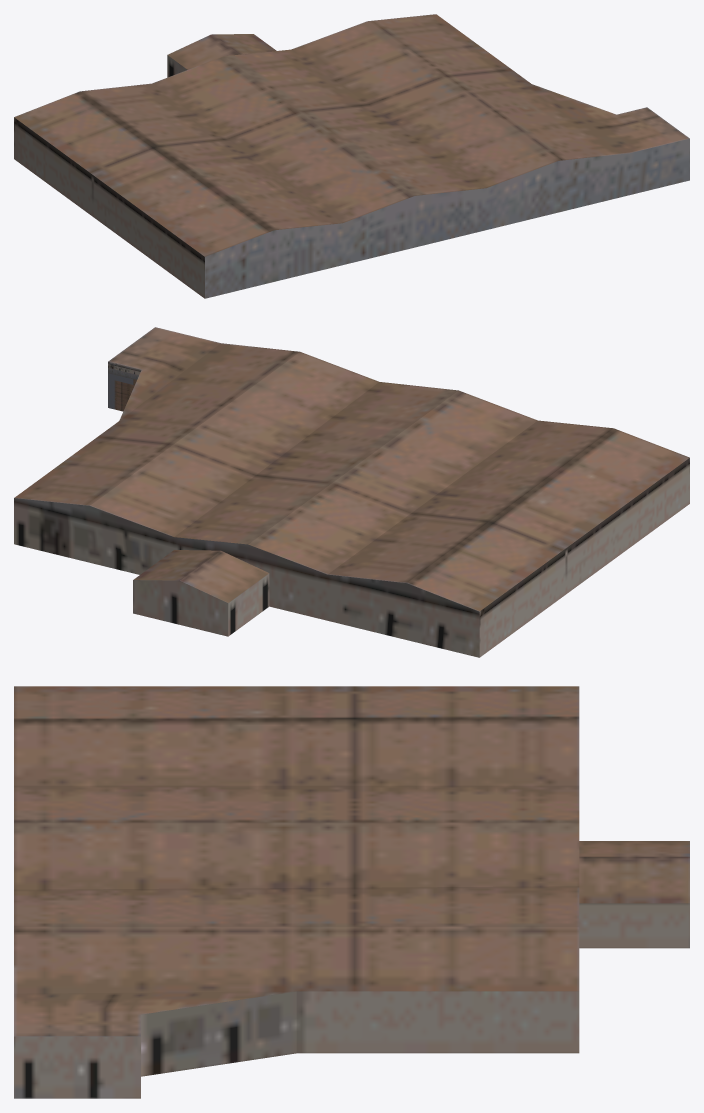
The model's file is lodwrehse09.obj.
The picture shows the model from 3 angles, top to bottom: view 1: azimuth 30°, elevation 25°; view 2: azimuth 150°, elevation 25°; view 3: azimuth 270°, elevation 25°; orthographic projection. The views are drawn at different scales.
Parts seen in each view (by area): view 1: lodwrehse09; view 2: lodwrehse09; view 3: lodwrehse09.
Boxes of the visible parts, bbox=[...] form: lodwrehse09: bbox=[14, 14, 689, 298]; lodwrehse09: bbox=[14, 327, 689, 657]; lodwrehse09: bbox=[14, 686, 689, 1098].
Size of the model in its own units: 77.94 by 7.93 by 63.52.
Materials: 1 (1 with a texture image).
